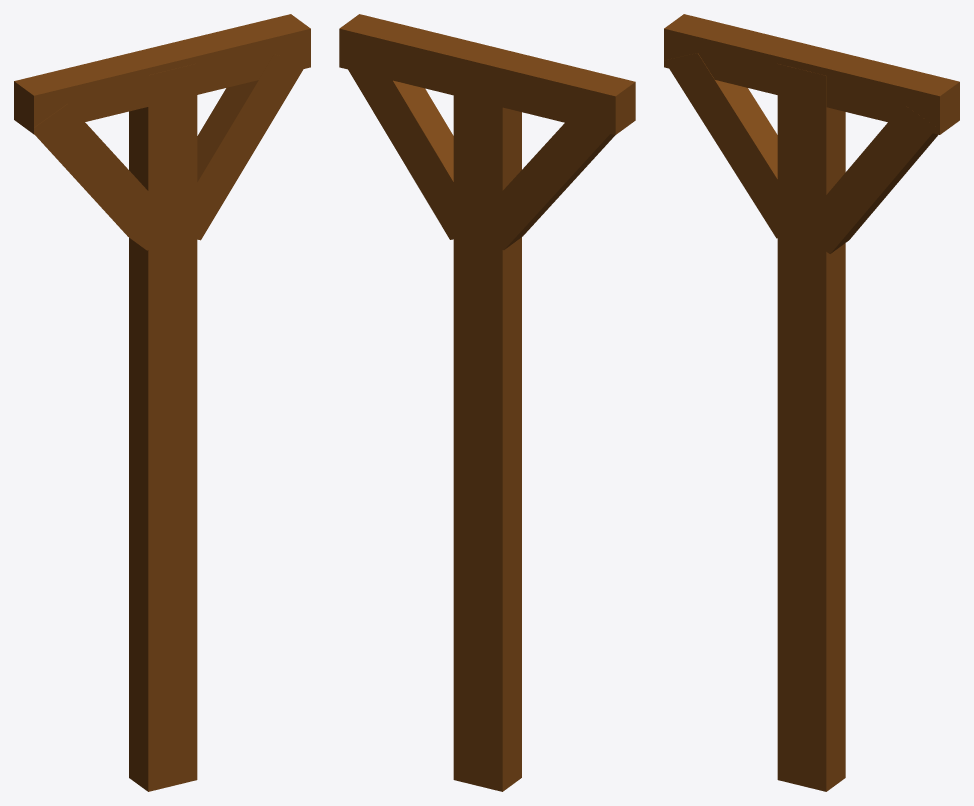
The model's file is electric pole.fbx.
3 views of the same model, side by side, from view 1: azimuth 30°, elevation 25°; view 2: azimuth 150°, elevation 25°; view 3: azimuth 330°, elevation 25° (orthographic).
Visible parts, largest first — view 1: pole; view 2: pole; view 3: pole.
Part boxes in pixels (x1=…): pole: x1=14, y1=14, x2=310, y2=791; pole: x1=339, y1=14, x2=635, y2=791; pole: x1=664, y1=14, x2=959, y2=791.
Size of the model in its own units: 340 by 850 by 43.43.
